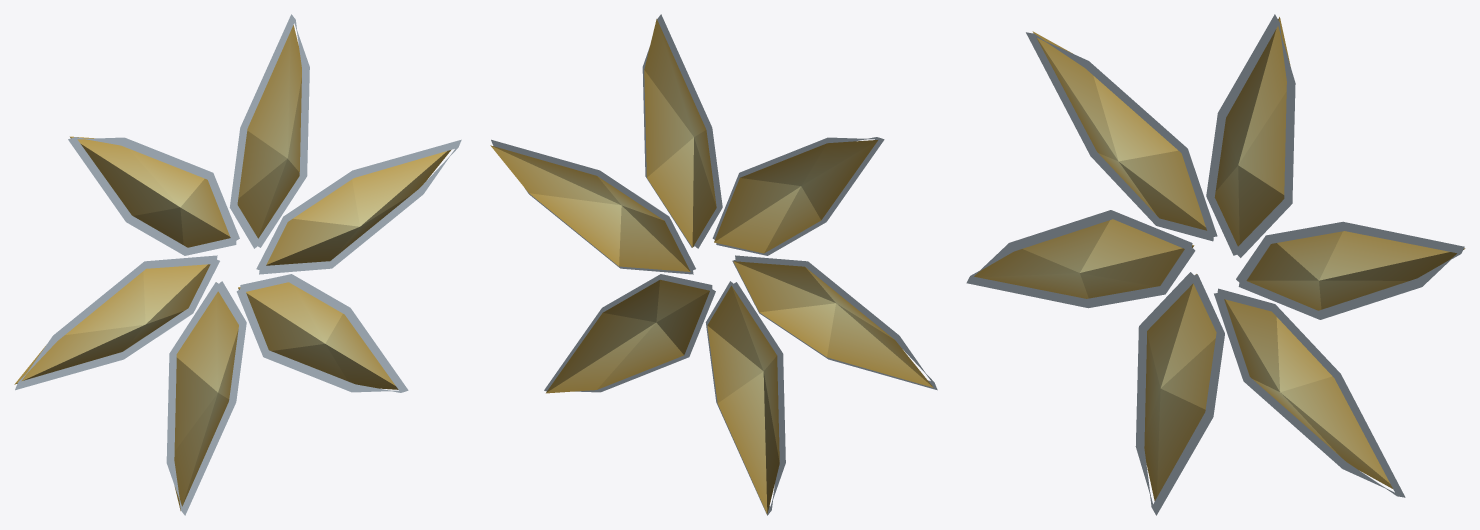
Rendered from Albedo_SolarIsotomaState_Overall_TransientRockFlower.fbx.
3 renders of one model, left to right at view 1: azimuth 30°, elevation 25°; view 2: azimuth 150°, elevation 25°; view 3: azimuth 330°, elevation 25°, orthographic. The views are drawn at different scales.
Parts seen in each view (by area): view 1: PART_TransientPetal3_FacetedPetal, PART_TransientPetal4_FacetedPetal, PART_TransientPetal2_FacetedPetal, PART_TransientPetal1_FacetedPetal, PART_TransientPetal5_FacetedPetal, PART_TransientPetal0_FacetedPetal, PART_TransientPetal1_MineralEdge, PART_TransientPetal4_MineralEdge, PART_TransientPetal3_MineralEdge, PART_TransientPetal0_MineralEdge, PART_TransientPetal5_MineralEdge, PART_TransientPetal2_MineralEdge; view 2: PART_TransientPetal4_FacetedPetal, PART_TransientPetal1_FacetedPetal, PART_TransientPetal0_FacetedPetal, PART_TransientPetal3_FacetedPetal, PART_TransientPetal5_FacetedPetal, PART_TransientPetal2_FacetedPetal, PART_TransientPetal0_MineralEdge, PART_TransientPetal1_MineralEdge, PART_TransientPetal4_MineralEdge, PART_TransientPetal5_MineralEdge, PART_TransientPetal2_MineralEdge, PART_TransientPetal3_MineralEdge; view 3: PART_TransientPetal1_FacetedPetal, PART_TransientPetal2_FacetedPetal, PART_TransientPetal0_FacetedPetal, PART_TransientPetal3_FacetedPetal, PART_TransientPetal5_FacetedPetal, PART_TransientPetal4_FacetedPetal, PART_TransientPetal5_MineralEdge, PART_TransientPetal1_MineralEdge, PART_TransientPetal2_MineralEdge, PART_TransientPetal3_MineralEdge, PART_TransientPetal4_MineralEdge, PART_TransientPetal0_MineralEdge.
Part boxes in pixels (x1,y1,x2,y2): PART_TransientPetal3_FacetedPetal: (14, 264, 210, 384); PART_TransientPetal4_FacetedPetal: (174, 291, 238, 510); PART_TransientPetal2_FacetedPetal: (70, 136, 230, 247); PART_TransientPetal1_FacetedPetal: (237, 25, 301, 238); PART_TransientPetal5_FacetedPetal: (238, 282, 398, 389); PART_TransientPetal0_FacetedPetal: (266, 150, 450, 265); PART_TransientPetal1_MineralEdge: (229, 14, 309, 248); PART_TransientPetal4_MineralEdge: (166, 281, 246, 515); PART_TransientPetal3_MineralEdge: (15, 255, 219, 390); PART_TransientPetal0_MineralEdge: (256, 139, 461, 274); PART_TransientPetal5_MineralEdge: (236, 274, 408, 392); PART_TransientPetal2_MineralEdge: (68, 137, 239, 255); PART_TransientPetal4_FacetedPetal: (707, 285, 779, 514); PART_TransientPetal1_FacetedPetal: (644, 19, 716, 247); PART_TransientPetal0_FacetedPetal: (490, 145, 690, 271); PART_TransientPetal3_FacetedPetal: (733, 261, 933, 387); PART_TransientPetal5_FacetedPetal: (546, 279, 709, 393); PART_TransientPetal2_FacetedPetal: (714, 140, 877, 253); PART_TransientPetal0_MineralEdge: (491, 139, 695, 274); PART_TransientPetal1_MineralEdge: (642, 14, 722, 248); PART_TransientPetal4_MineralEdge: (705, 281, 785, 515); PART_TransientPetal5_MineralEdge: (544, 274, 715, 392); PART_TransientPetal2_MineralEdge: (712, 137, 884, 255); PART_TransientPetal3_MineralEdge: (732, 255, 937, 390); PART_TransientPetal1_FacetedPetal: (1214, 17, 1290, 246); PART_TransientPetal2_FacetedPetal: (1032, 31, 1206, 230); PART_TransientPetal0_FacetedPetal: (1246, 231, 1465, 310); PART_TransientPetal3_FacetedPetal: (974, 219, 1194, 298); PART_TransientPetal5_FacetedPetal: (1224, 299, 1392, 488); PART_TransientPetal4_FacetedPetal: (1144, 274, 1216, 500); PART_TransientPetal5_MineralEdge: (1214, 288, 1405, 497); PART_TransientPetal1_MineralEdge: (1206, 14, 1295, 257); PART_TransientPetal2_MineralEdge: (1026, 32, 1217, 241); PART_TransientPetal3_MineralEdge: (966, 210, 1195, 308); PART_TransientPetal4_MineralEdge: (1135, 272, 1224, 515); PART_TransientPetal0_MineralEdge: (1236, 221, 1464, 319).
Size of the model in its own units: 161 by 164 by 10.5.
